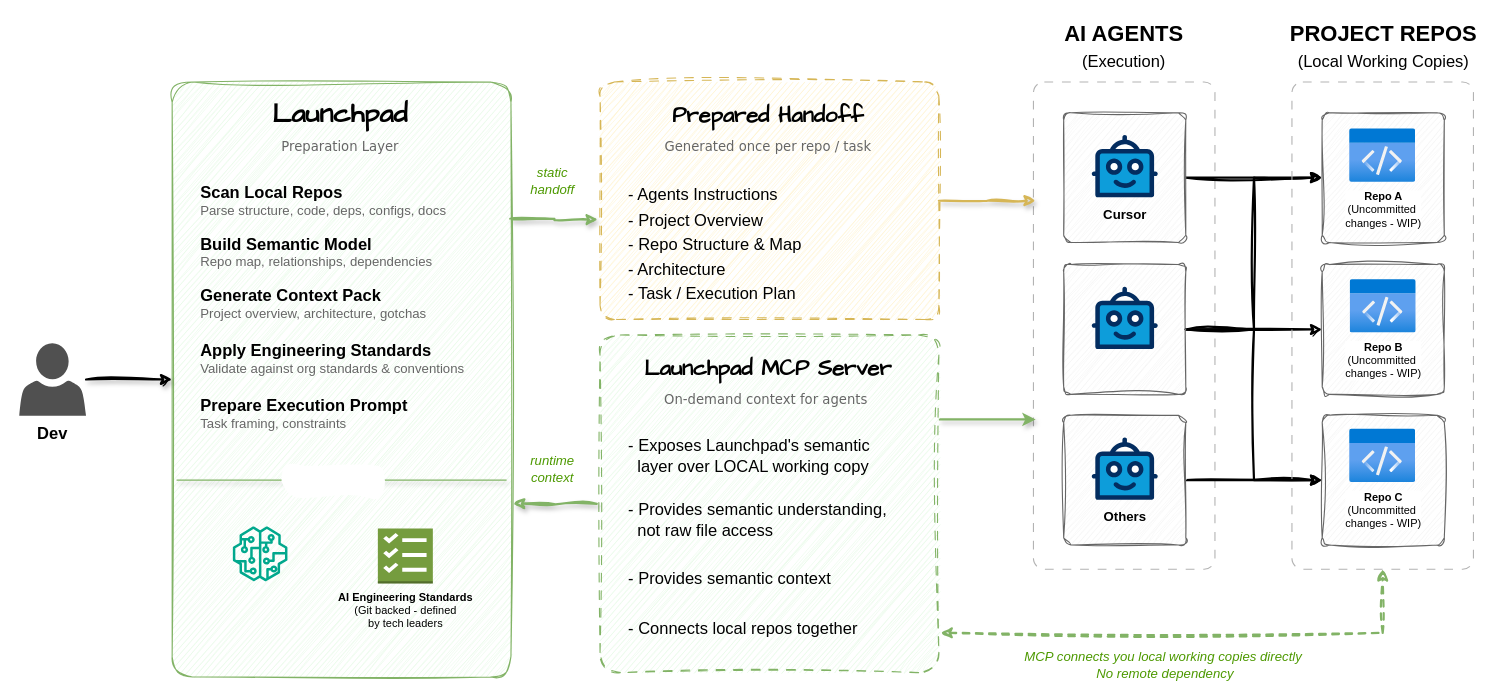
Some shapes in this 1502 by 700 pixel diagram are drawn without their labels. Here are the shapes that lost their labels. From the top down, the centre of each, then its label:
point 1124,328: Claude
point 332,480: Inputs (Local)
point 259,553: Local AI Models (For free & private Inference)
